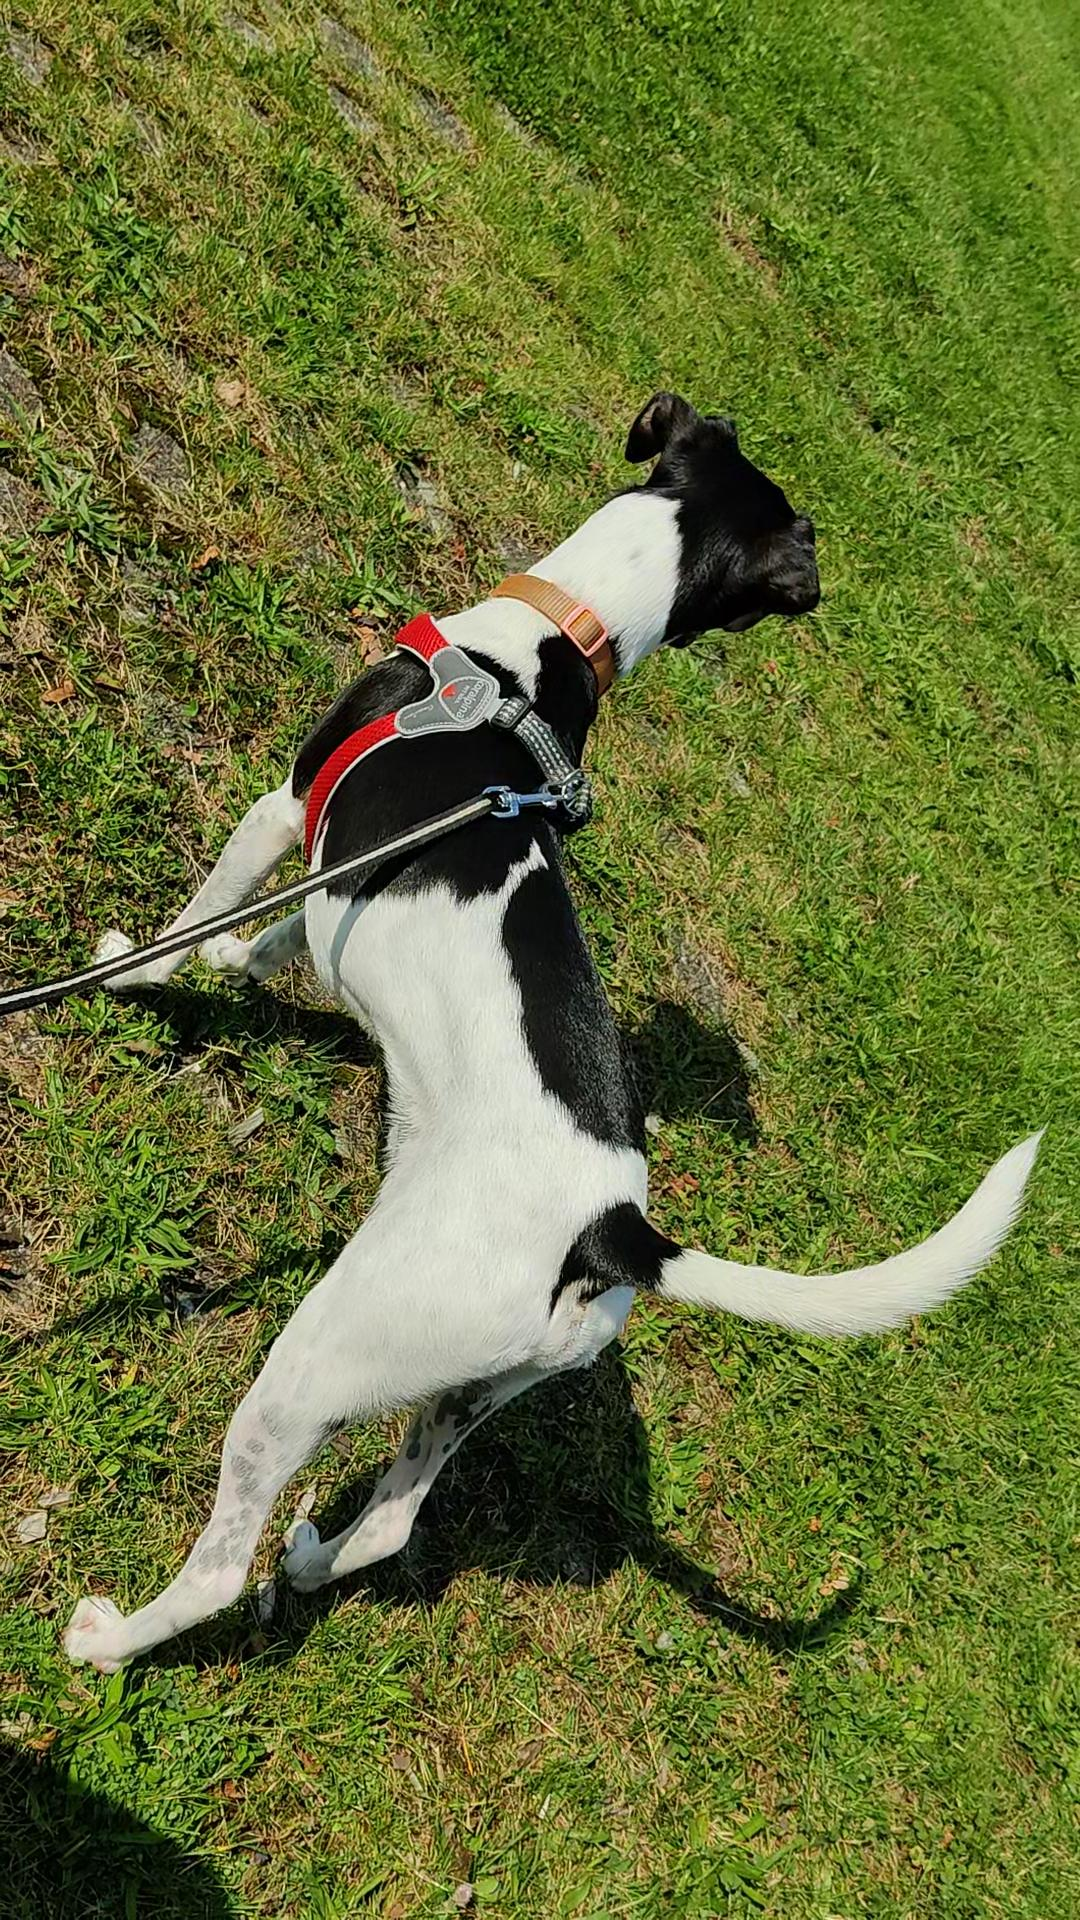Dog: (65, 388, 1054, 1673)
